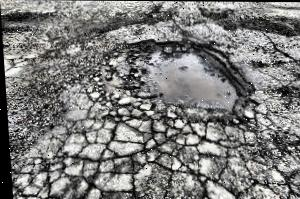pothole: (115, 39, 260, 126)
